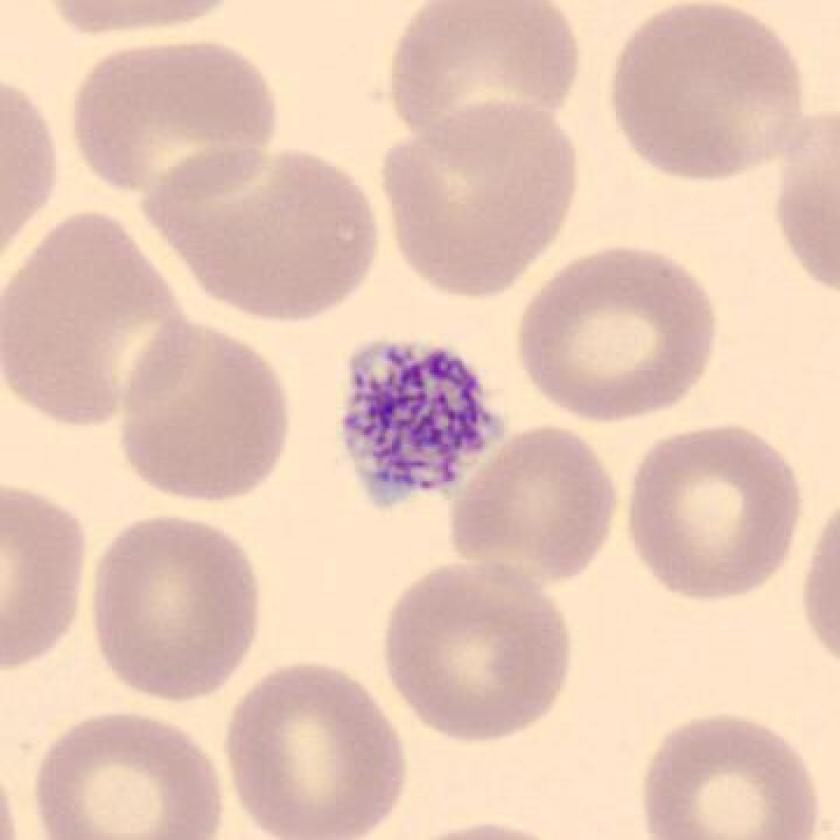platelets: (335, 337, 512, 520)
